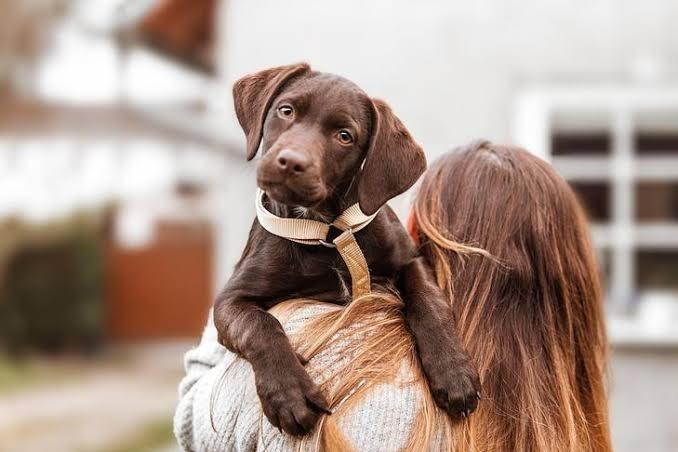non-dog: (169, 140, 617, 452)
puppy-dog: (212, 62, 480, 436)
